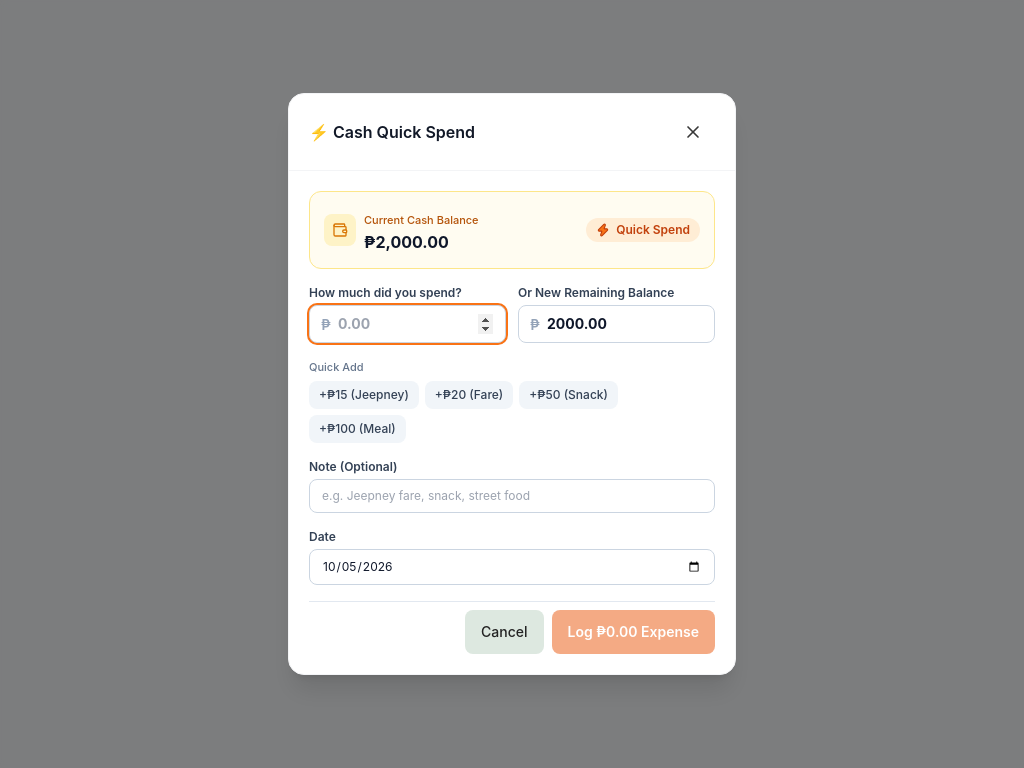
CashQuickSpendModal › updates spent amount when remaining balance changes
The image size is (1024, 768).
Replace the text in the number field labelled "Or New Remaining Balance" with "1850" at point(616, 324), box [518,305,715,343]
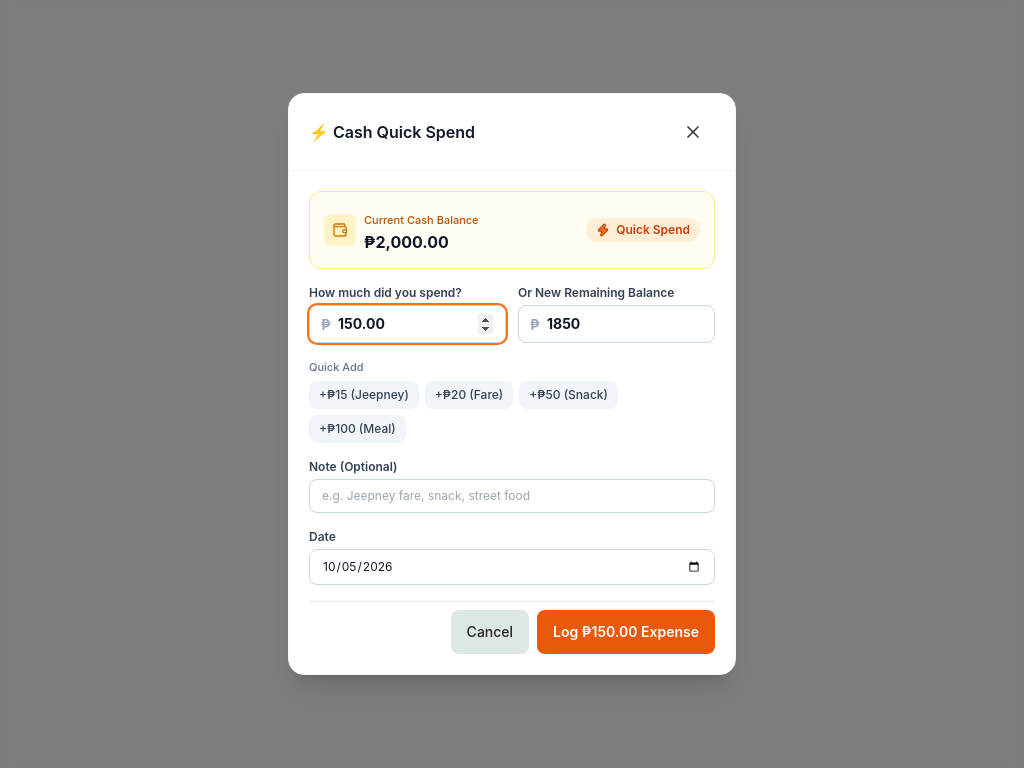
Expected: the number field labelled "How much did you spend?" holds "150.00", [309,305,506,343]
